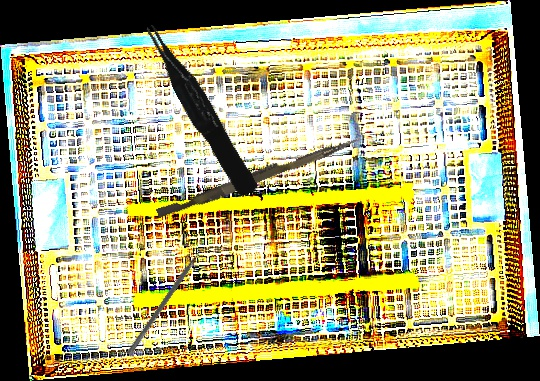Pusher: (155, 129, 360, 224)
Spatula Surgical: (126, 244, 209, 359)
Tissue Forceps: (142, 16, 259, 202)
